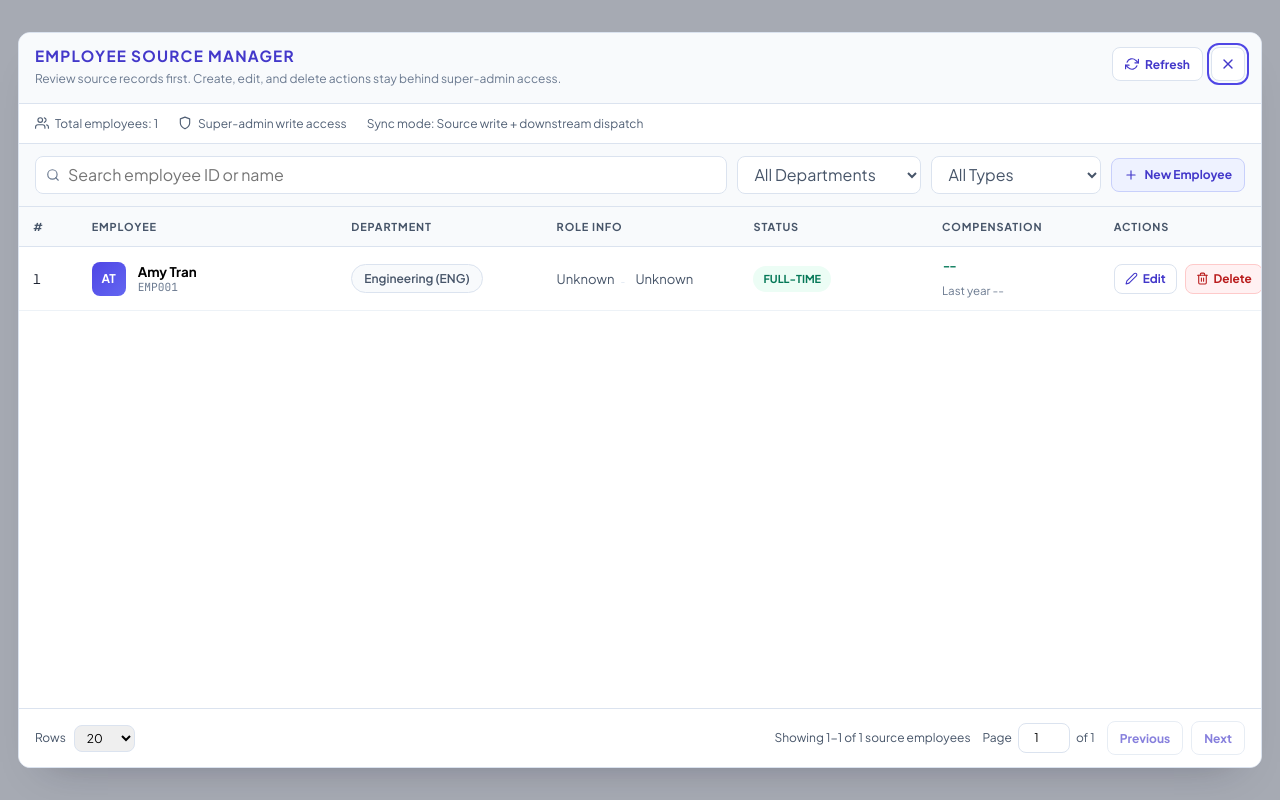
it: AdminEmployeesModal › loads delivery evidence when an employee editor is opened
Click the button "AT Amy Tran EMP001": (207, 279) [92,262,323,296]
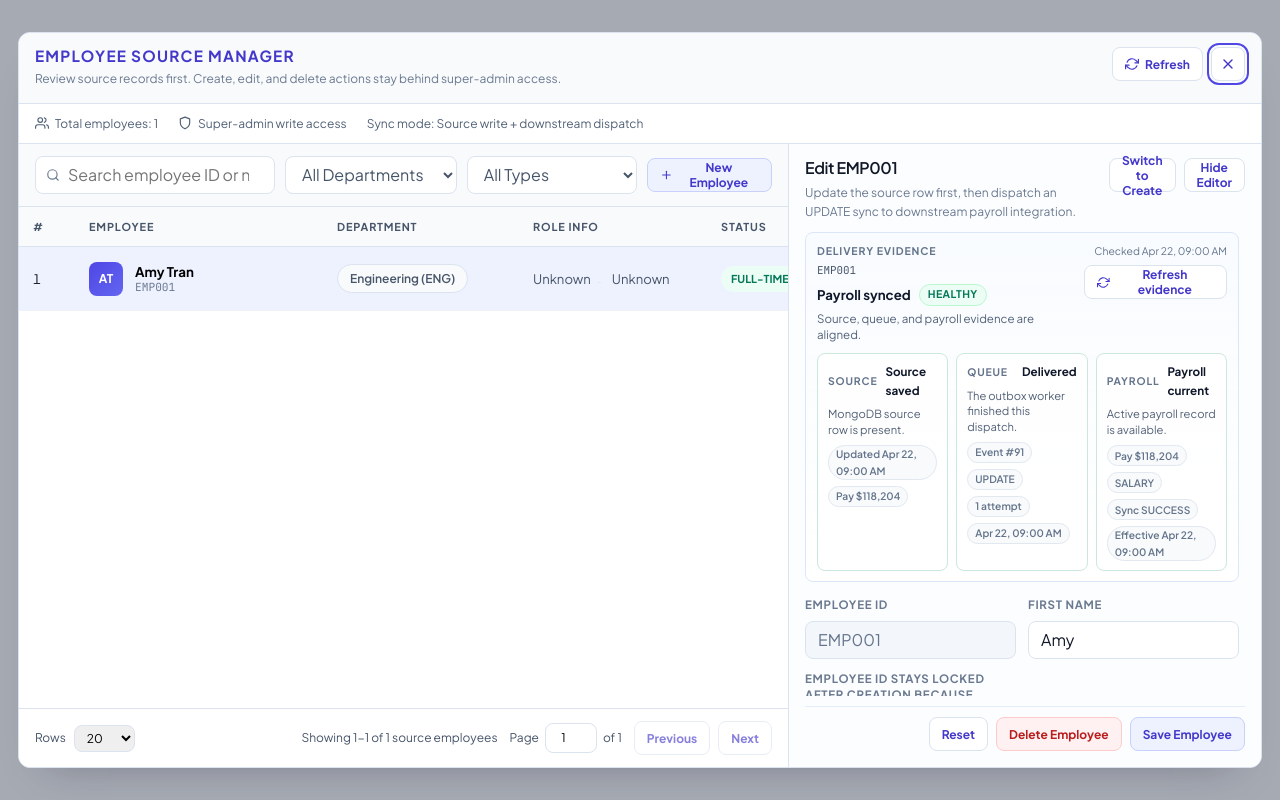
Check: the text "Delivery evidence" is shown, box [817,243,936,256]
Check: the text "Payroll synced" is shown, box [817,284,911,305]
Check: the text "Source saved" is shown, box [885,364,926,398]
